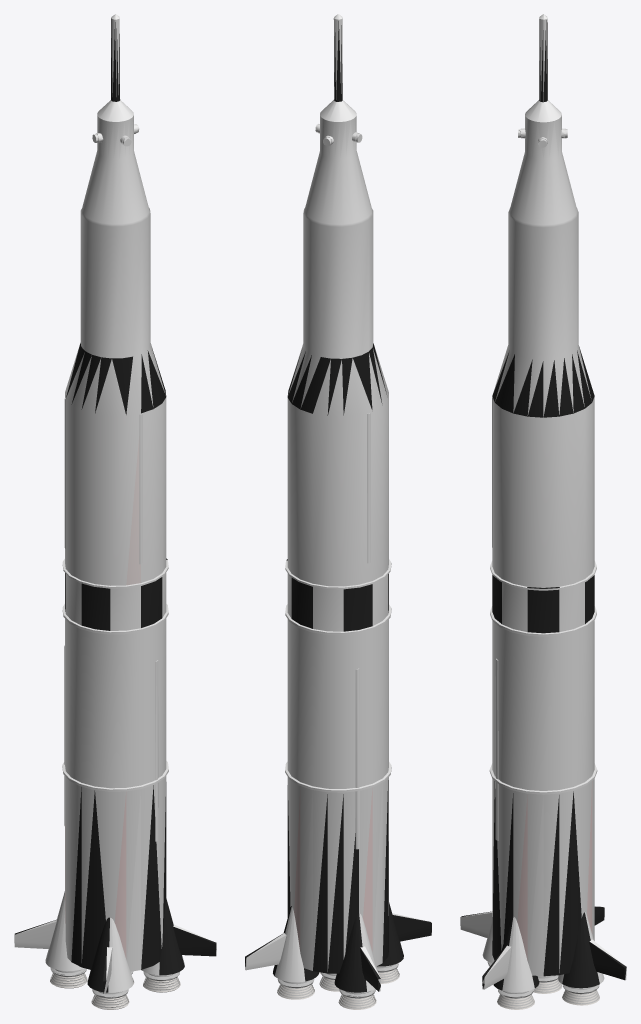
Rendered from saturn-v.glb.
The picture shows the model from 3 angles, left to right: view 1: azimuth 30°, elevation 25°; view 2: azimuth 150°, elevation 25°; view 3: azimuth 270°, elevation 25°; orthographic projection.
Parts seen in each view (by area): view 1: body; view 2: body; view 3: body.
Boxes of the visible parts, bbox=[...] form: body: bbox=[14, 14, 216, 1009]; body: bbox=[245, 14, 431, 1009]; body: bbox=[460, 14, 626, 1009].
Bounding box in the file's own units: 2.01 × 12.99 × 2.01.
